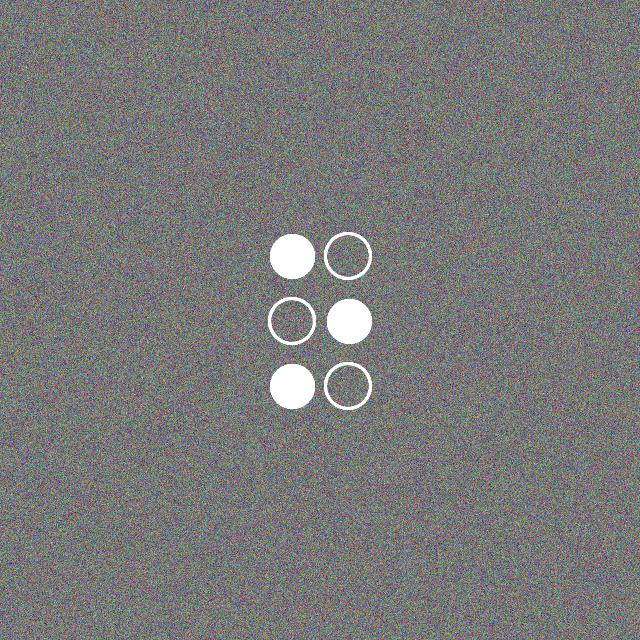O: (266, 229, 373, 414)
